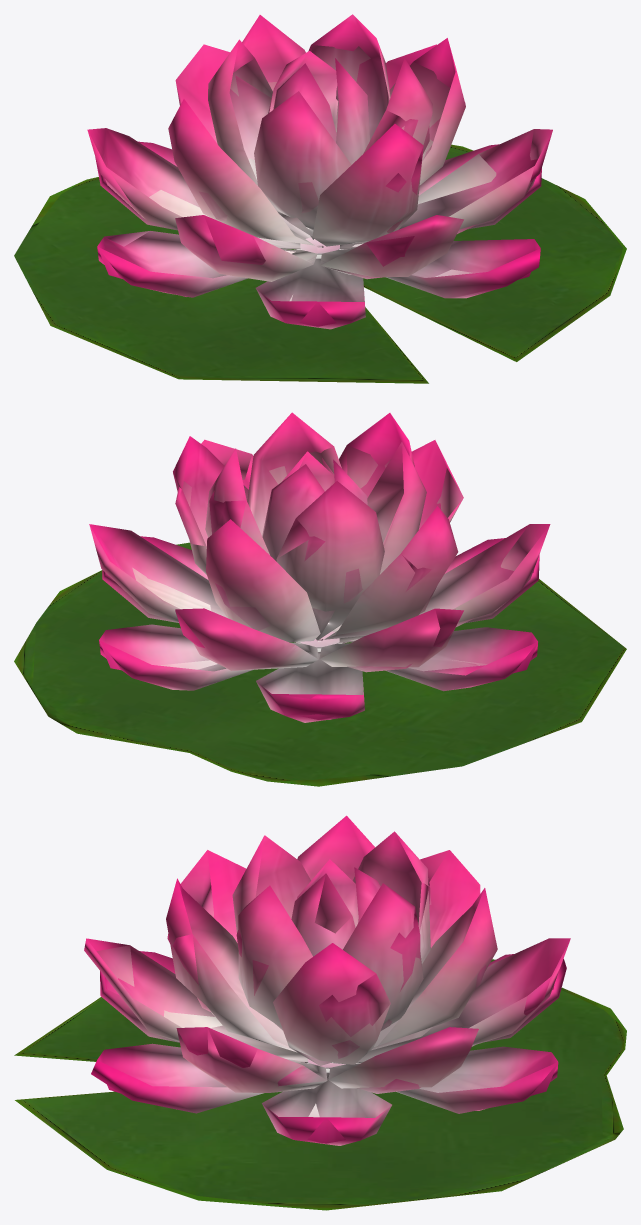
Rendered from lotus_pond.glb.
The picture shows the model from 3 angles, top to bottom: view 1: azimuth 30°, elevation 25°; view 2: azimuth 150°, elevation 25°; view 3: azimuth 270°, elevation 25°; orthographic projection. The views are drawn at different scales.
Parts seen in each view (by area): view 1: defaultMaterial (×2); view 2: defaultMaterial (×2); view 3: defaultMaterial (×2).
Part boxes in pixels (x1,y1,x2,y2): defaultMaterial (×2): (14,14,626,383); defaultMaterial (×2): (14,412,626,786); defaultMaterial (×2): (14,815,626,1210).
Size of the model in its own units: 0.5721 by 0.2215 by 0.55.
2 materials, 2 textured.
